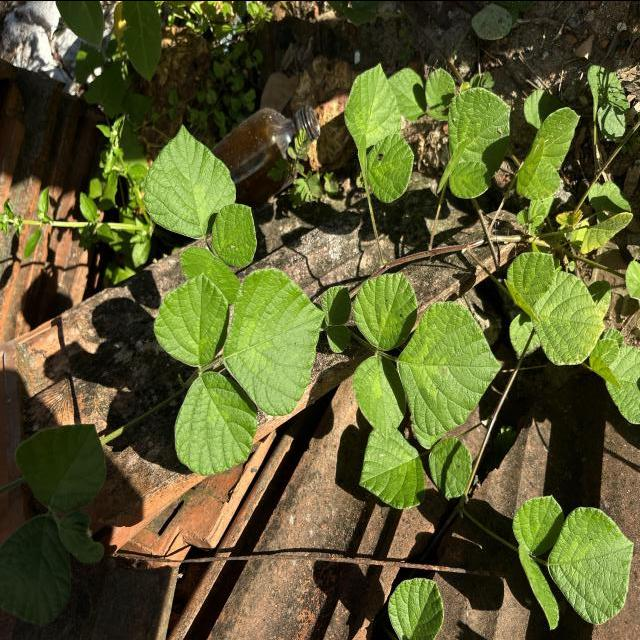Pseudarthria viscida: (152, 262, 326, 480), (350, 268, 503, 441), (510, 492, 636, 632)
